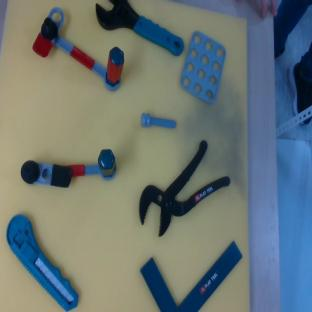non_pass: (19, 148, 118, 193)
pass: (26, 5, 137, 102)
